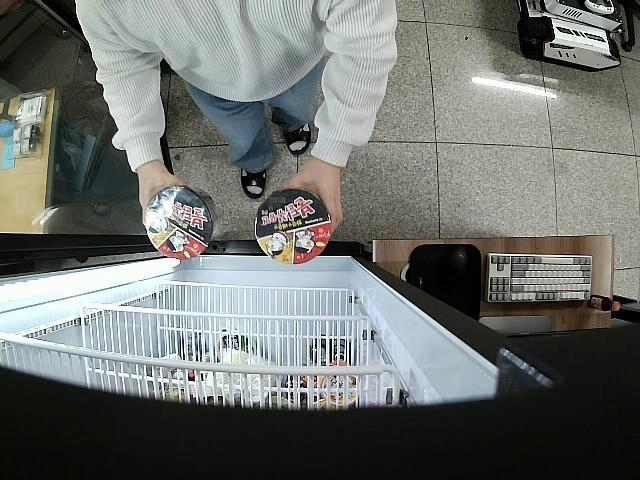07_buldak_L: (256, 189, 331, 264), (144, 186, 220, 257)
